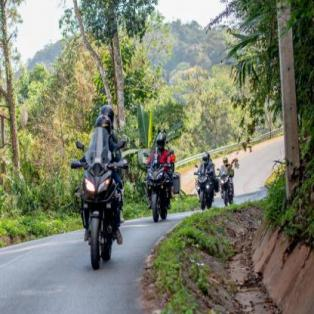Motocicleta: (71, 138, 129, 268), (143, 146, 173, 228), (190, 165, 211, 213), (216, 171, 234, 210)
